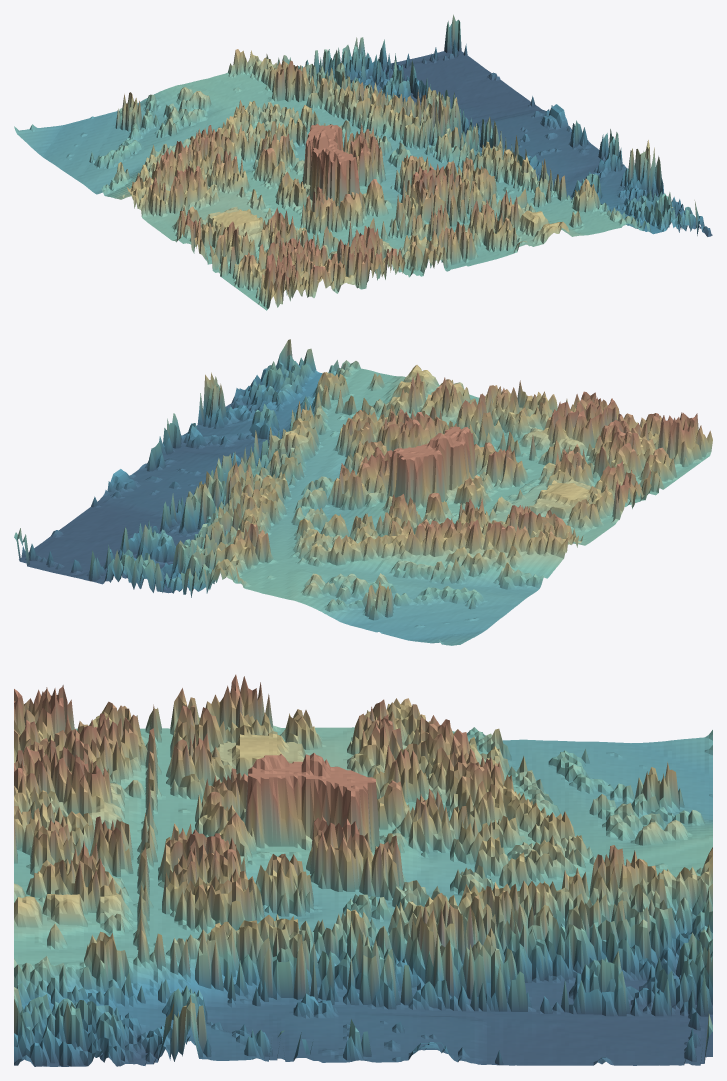
The model's file is oma084_mesh_gt.glb.
The picture shows the model from 3 angles, top to bottom: view 1: azimuth 30°, elevation 25°; view 2: azimuth 150°, elevation 25°; view 3: azimuth 270°, elevation 25°; orthographic projection. The views are drawn at different scales.
Parts seen in each view (by area): view 1: world; view 2: world; view 3: world.
Boxes of the visible parts, box(x1,y1,x2,y2) form: world: box(14, 14, 712, 310); world: box(14, 339, 712, 645); world: box(14, 674, 712, 1066).
Size of the model in its own units: 255 by 51.05 by 255.
